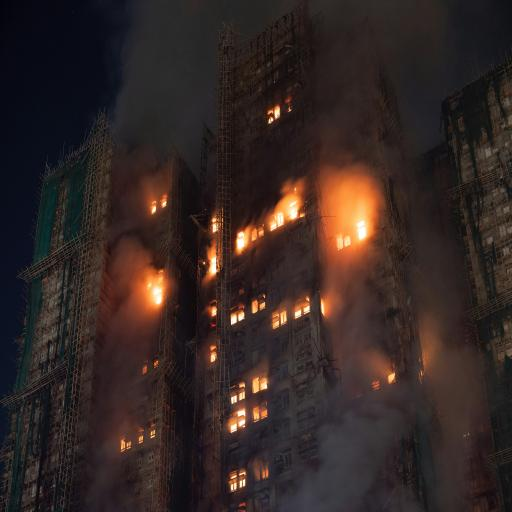buildingfire: (10, 33, 512, 512), (130, 4, 423, 512)
smoke: (306, 0, 512, 226), (282, 250, 432, 512), (411, 270, 478, 426), (100, 299, 149, 430)
